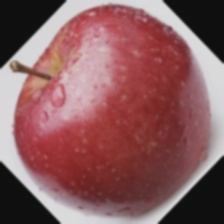apple: (30, 9, 224, 194)
